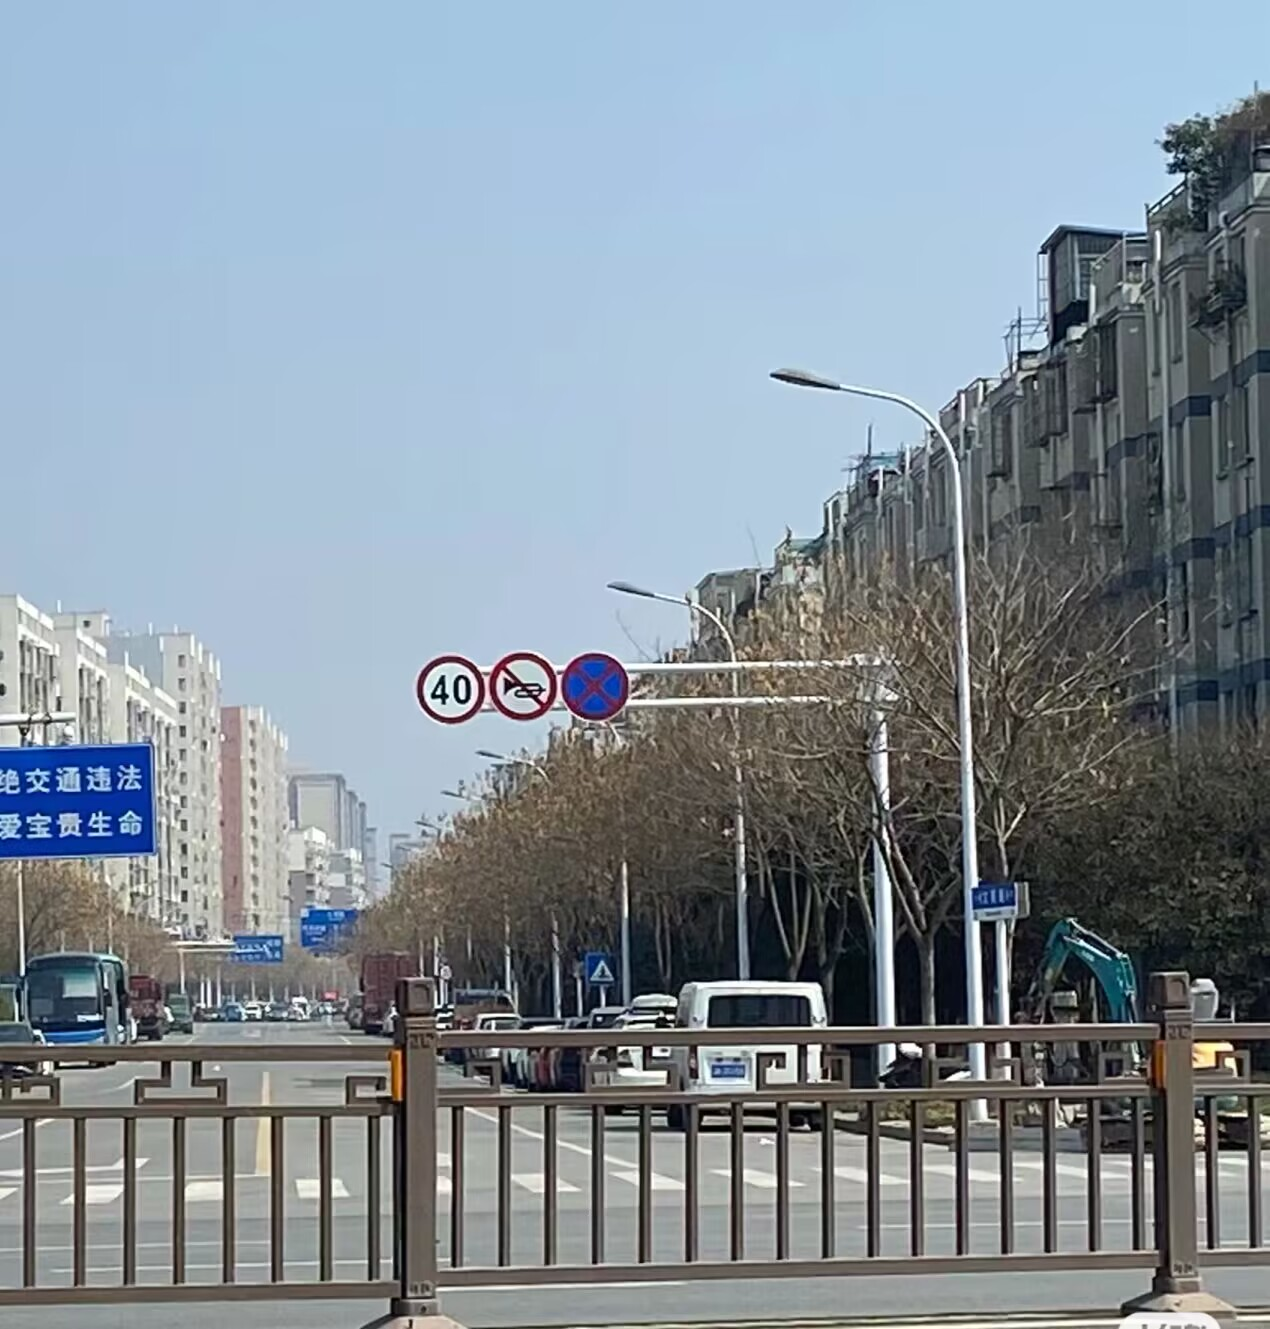p11: (493, 651, 555, 721)
pl40: (415, 654, 478, 724)
pn: (564, 651, 629, 721)
